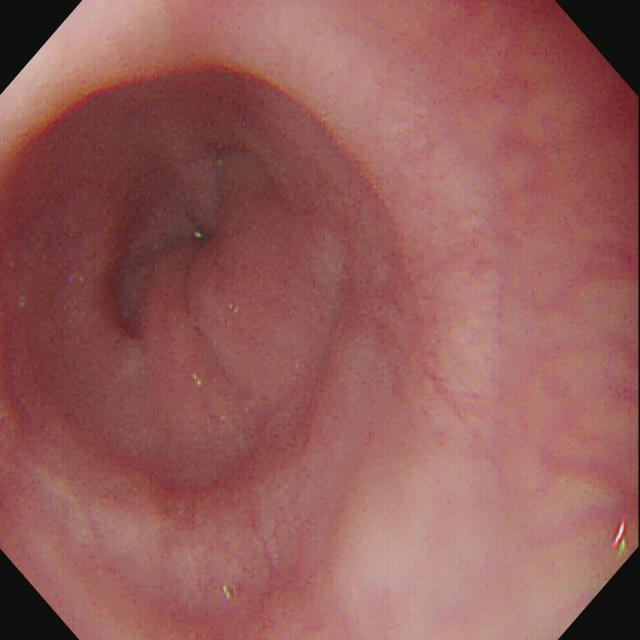U: (615, 519, 628, 557)
